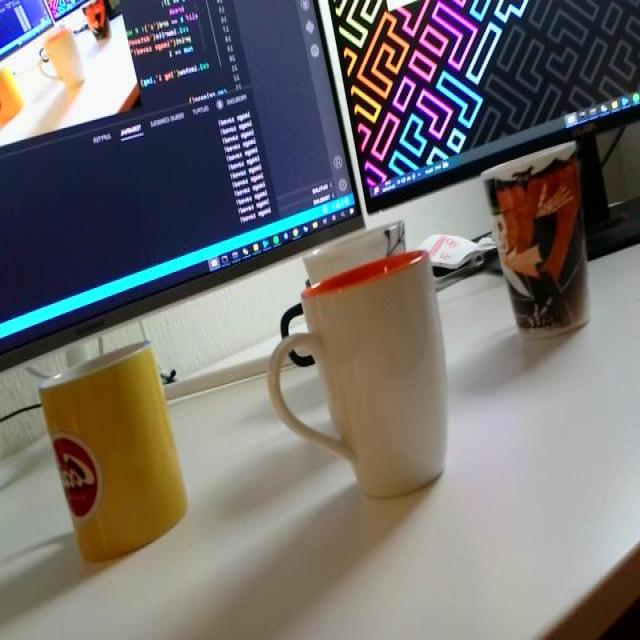cup: (255, 230, 449, 505), (25, 334, 199, 578), (482, 121, 594, 352), (303, 208, 425, 297)
